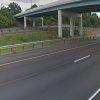Bridge: (10, 0, 92, 31)
